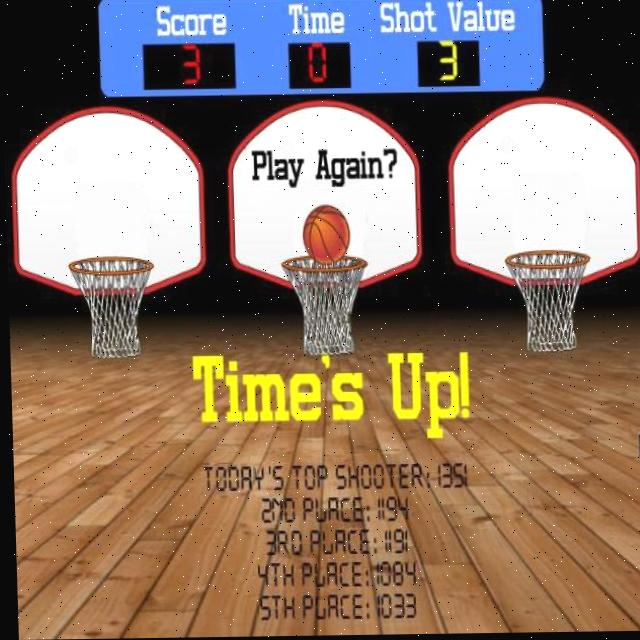Basketball: (302, 203, 351, 265)
hoop: (505, 249, 594, 353), (68, 257, 156, 360), (281, 255, 371, 355)
